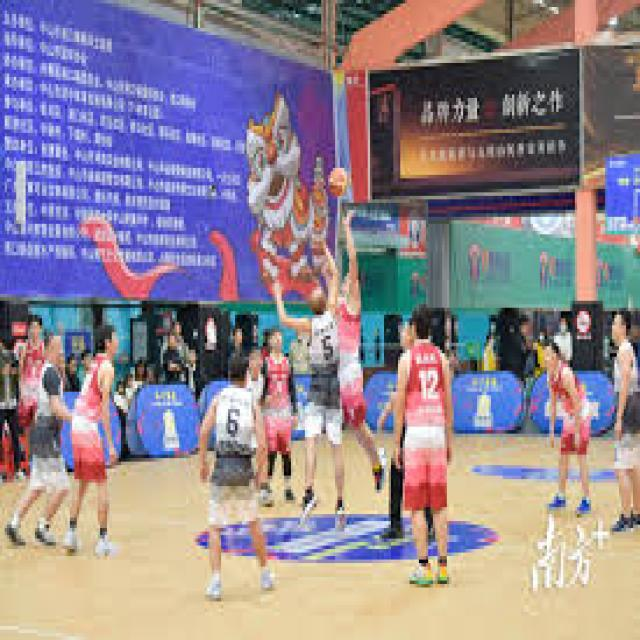rim: (323, 168, 347, 199)
